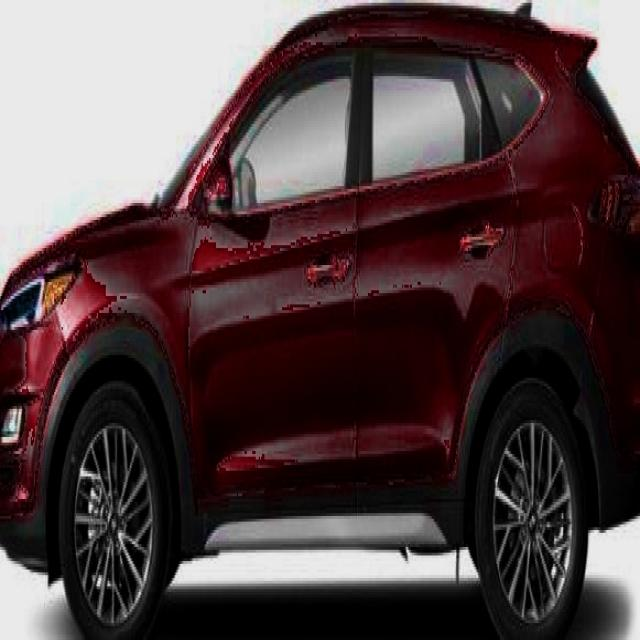maroon: (5, 5, 640, 595)
